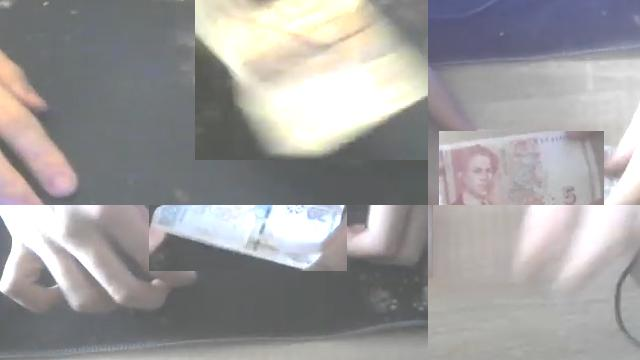10leva: (195, 0, 428, 160)
20leva: (149, 205, 347, 271)
5leva: (439, 131, 604, 205)
